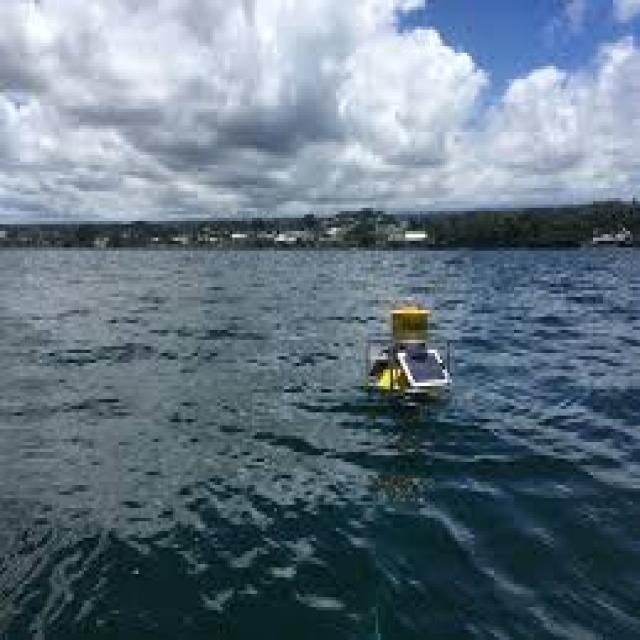marque: (363, 277, 452, 410)
